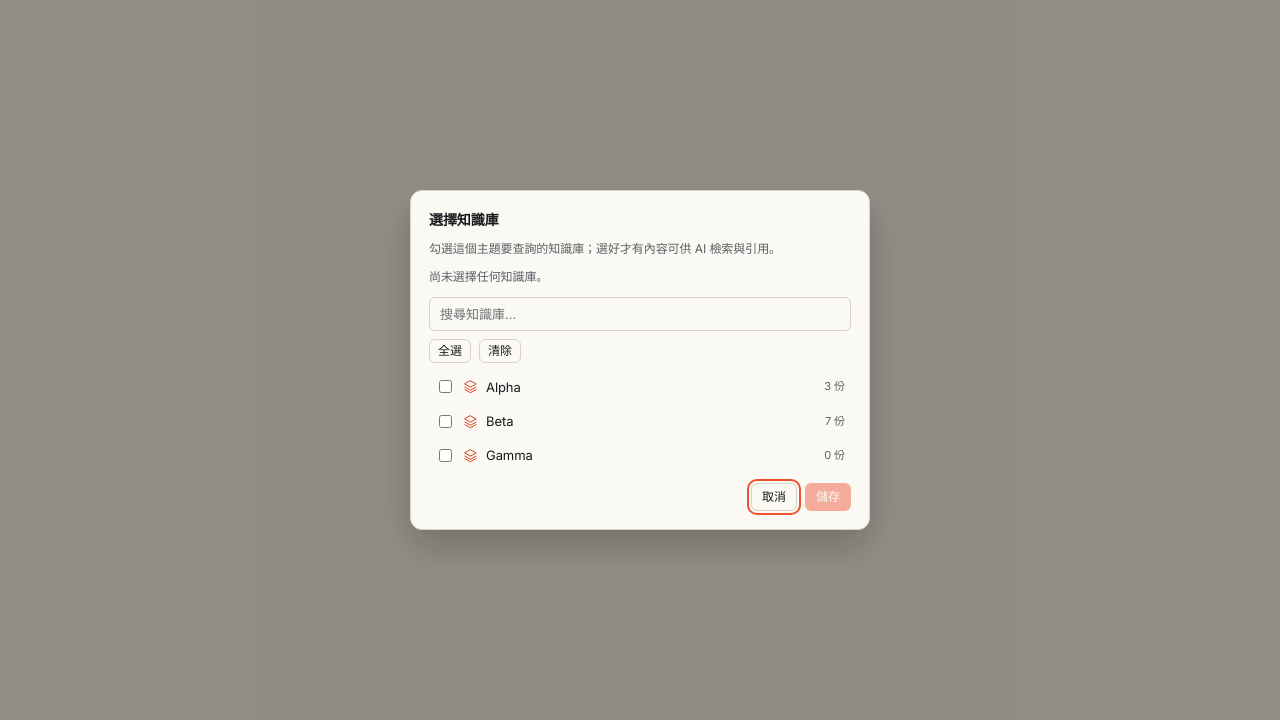
Test: CollectionsPickerModal › filters the list by the search box (case-insensitive)
Expected: the text "Alpha 3 份" is shown, [439, 379, 845, 395]
Type "bet" into the field with test id "collections-search".
click(640, 314); type("bet")  # box [429, 297, 851, 331]
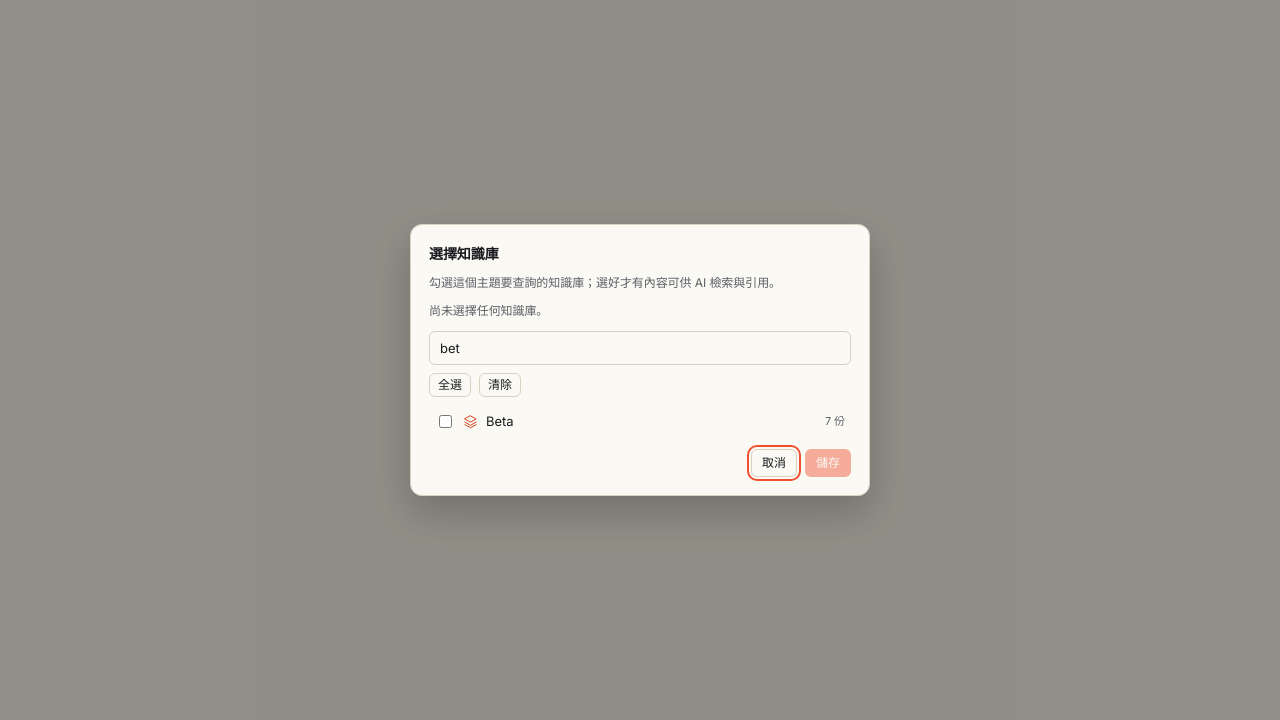
Expected: the text "Beta 7 份" is shown, [439, 413, 845, 429]
Result: the label with test id "collection-row-a" is gone
